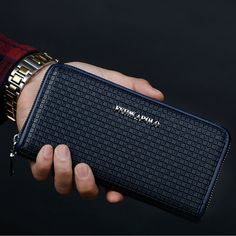monedero: (14, 61, 232, 227)
